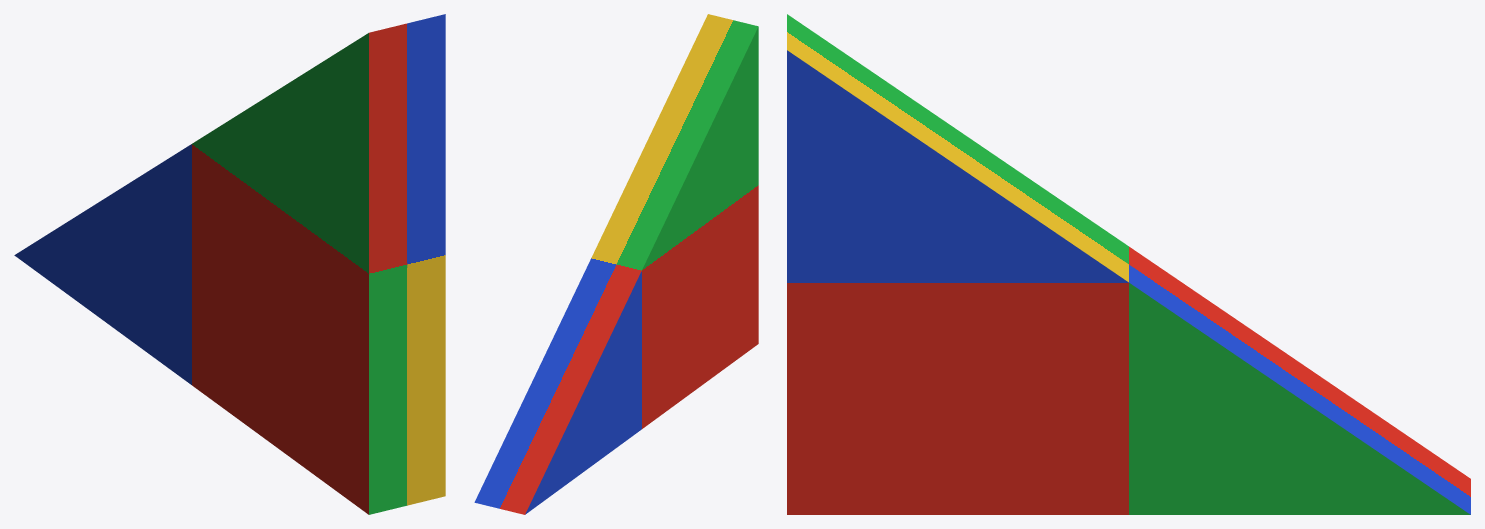
Rendered from asymmetric-pbr.glb.
3 views of the same model, side by side, from view 1: azimuth 30°, elevation 25°; view 2: azimuth 150°, elevation 25°; view 3: azimuth 270°, elevation 25° (orthographic). The views are drawn at different scales.
Visible parts, largest first — view 1: Rotated scaled child; view 2: Rotated scaled child; view 3: Rotated scaled child.
Boxes of the visible parts, x1,y1,x2,y2 form: Rotated scaled child: (14,14,445,514); Rotated scaled child: (474,14,758,514); Rotated scaled child: (787,14,1470,514).
Size of the model in its own units: 0.5 by 3 by 4.
1 material, 1 textured.
